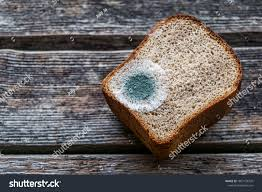mold_bread: (111, 56, 171, 109)
